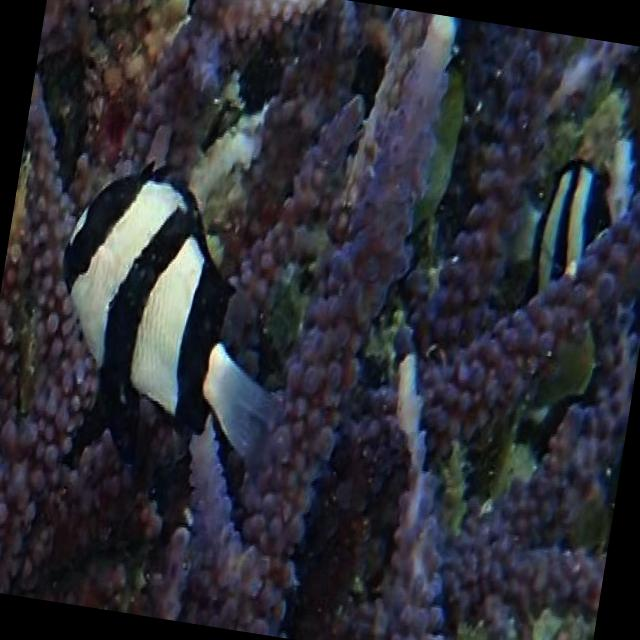Three_striped DasmselFish: (32, 147, 316, 474), (526, 145, 628, 300)
